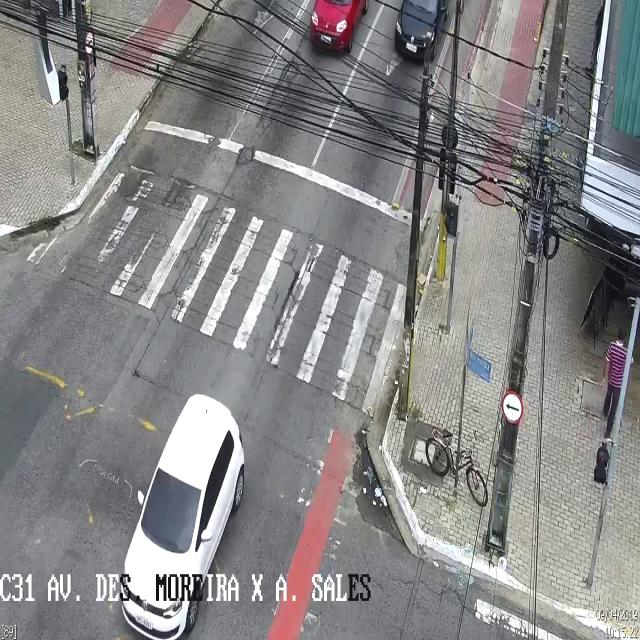Car: (120, 391, 244, 631), (394, 0, 451, 53), (310, 1, 366, 52)
